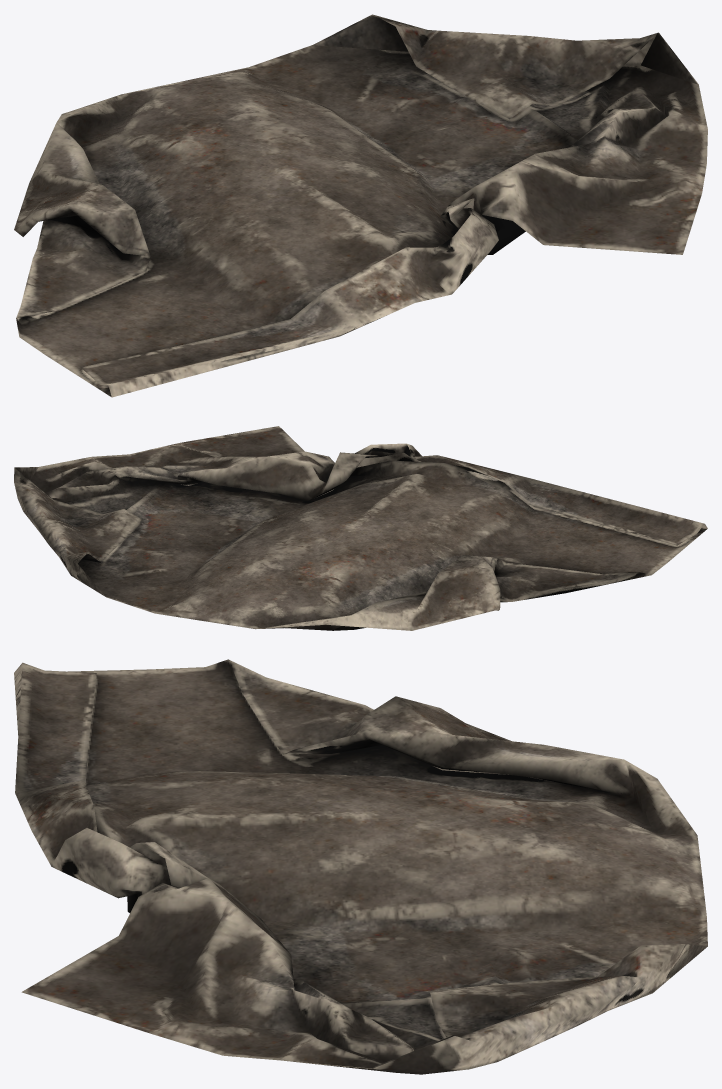
File: tornCloth.fbx
The picture shows the model from 3 angles, top to bottom: view 1: azimuth 30°, elevation 25°; view 2: azimuth 150°, elevation 25°; view 3: azimuth 270°, elevation 25°; orthographic projection. The views are drawn at different scales.
Visible parts, largest first — view 1: cloth_05; view 2: cloth_05; view 3: cloth_05.
Boxes of the visible parts, x1,y1,x2,y2 form: cloth_05: (14, 14, 707, 397); cloth_05: (14, 426, 707, 630); cloth_05: (14, 659, 707, 1074).
Size of the model in its own units: 0.6301 by 0.0578 by 0.9004.
